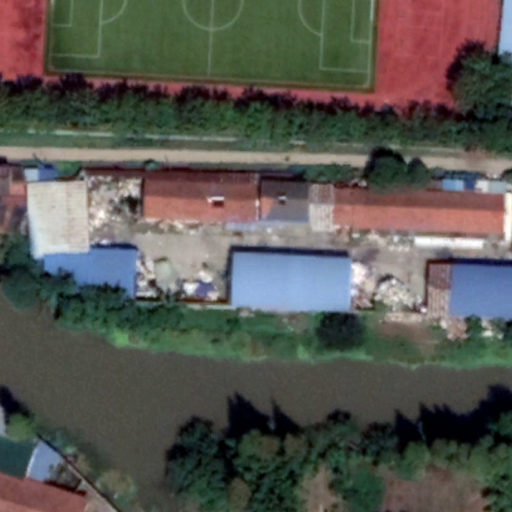msw: (353, 261, 423, 312), (85, 176, 141, 224)
